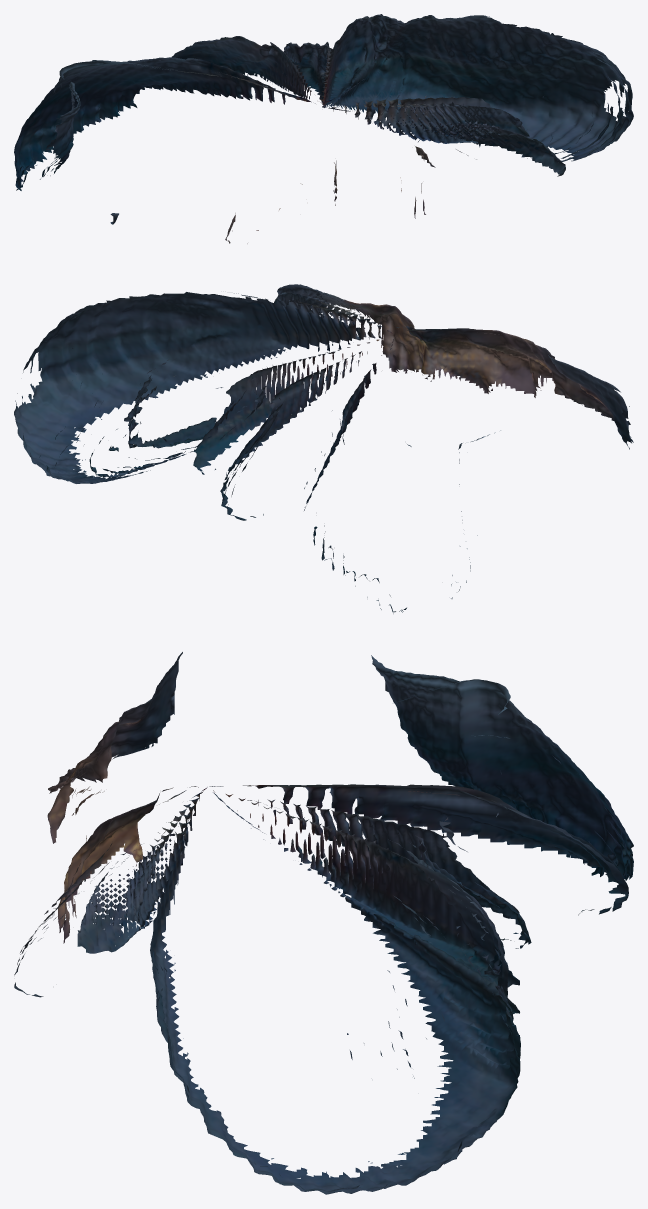
The model's file is pageworld-black-lake-arrival-v20260502221234-07ac6027-collider.glb.
The picture shows the model from 3 angles, top to bottom: view 1: azimuth 30°, elevation 25°; view 2: azimuth 150°, elevation 25°; view 3: azimuth 270°, elevation 25°; orthographic projection. The views are drawn at different scales.
Parts seen in each view (by area): view 1: world; view 2: world; view 3: world.
Part boxes in pixels (x1=…): world: x1=14, y1=14, x2=633, y2=243; world: x1=14, y1=284, x2=633, y2=613; world: x1=14, y1=652, x2=633, y2=1194.
Bounding box in the file's own units: 117 × 30.72 × 80.19.
